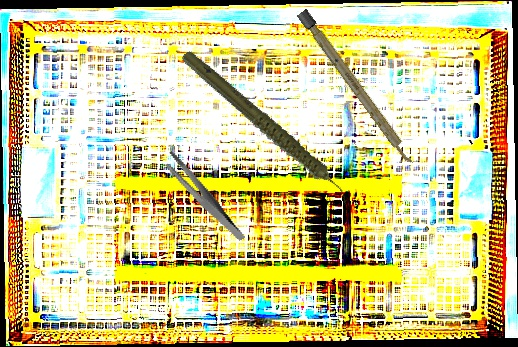Dressing Forceps: (161, 138, 246, 256)
Handpiece: (179, 23, 352, 235)
Scalpel Handle: (296, 8, 417, 168)
